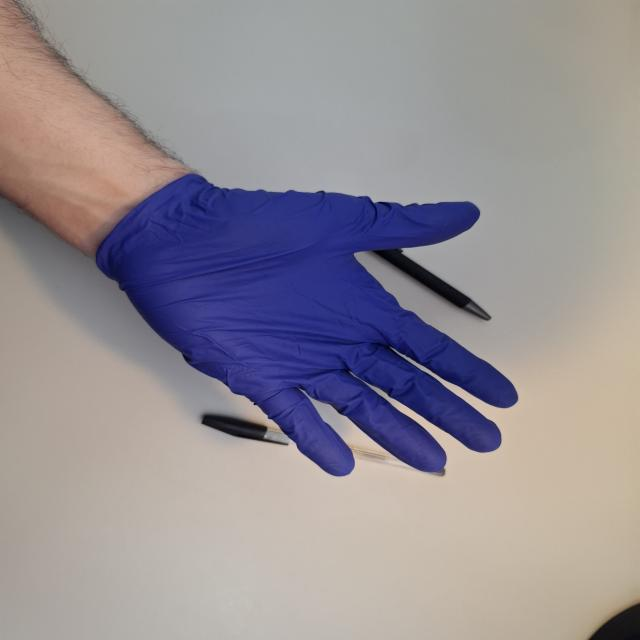glove_on: (91, 175, 521, 478)
